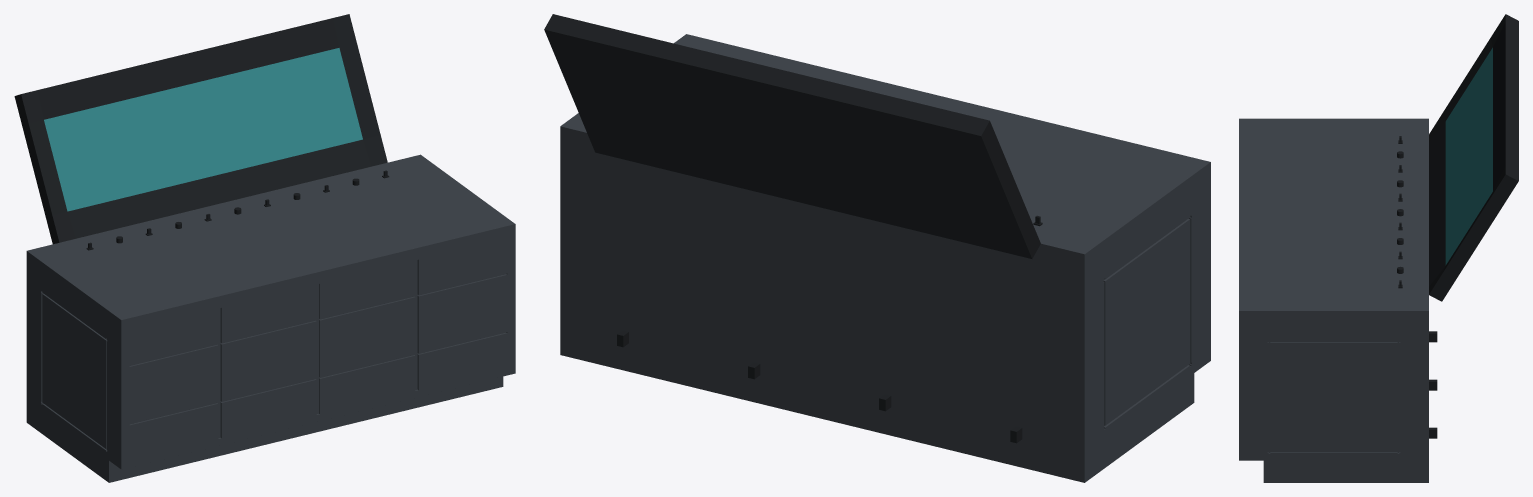
Rendered from bridge_console.glb.
3 views of the same model, side by side, from view 1: azimuth 30°, elevation 25°; view 2: azimuth 150°, elevation 25°; view 3: azimuth 270°, elevation 25° (orthographic). The views are drawn at different scales.
Visible parts, largest first — view 1: BridgeConsole; view 2: BridgeConsole; view 3: BridgeConsole.
Boxes of the visible parts, left/top/right/bottom form: BridgeConsole: left=14, top=14, right=515, bottom=482; BridgeConsole: left=544, top=14, right=1210, bottom=482; BridgeConsole: left=1239, top=14, right=1518, bottom=482.
Size of the model in its own units: 2.4 by 1.7 by 1.47.
